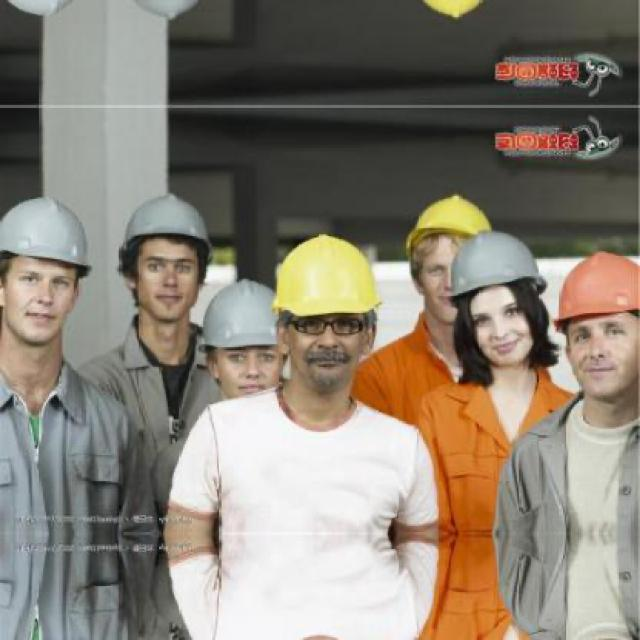con casco: (0, 195, 93, 434), (246, 261, 389, 412), (515, 245, 640, 416), (118, 184, 235, 361), (191, 272, 305, 413), (460, 211, 566, 352), (390, 188, 501, 304)
